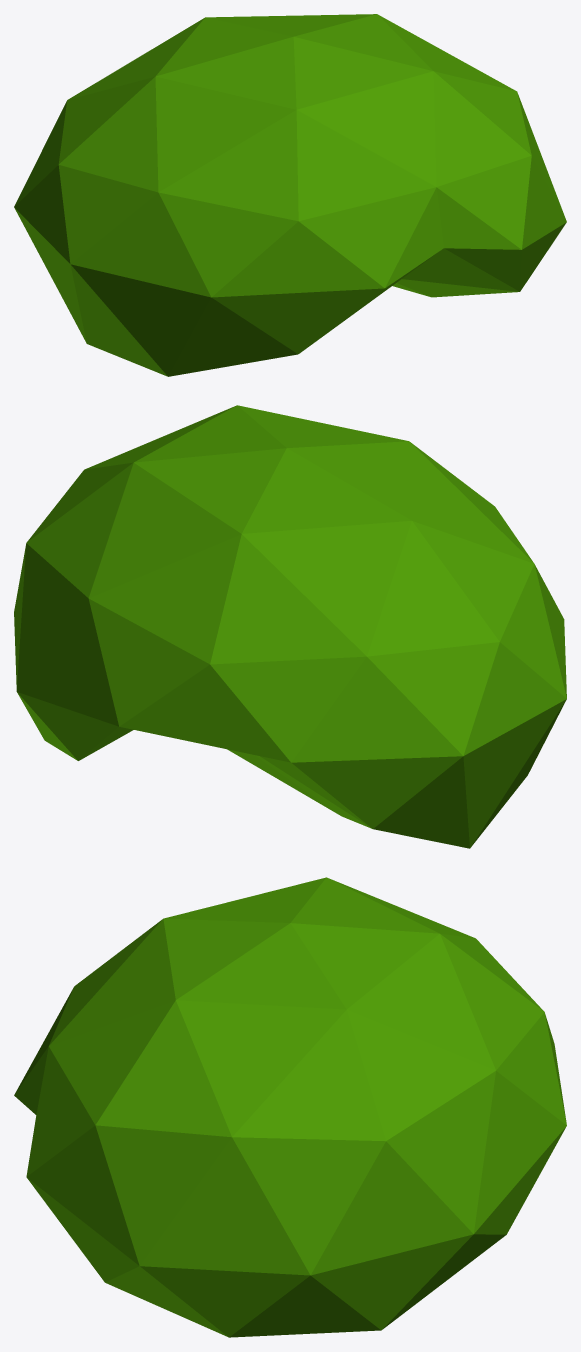
File: Vegetation_Modular_New_Tree_Leaf_Bunch_01.FBX
3 views of the same model, one above another, from view 1: azimuth 30°, elevation 25°; view 2: azimuth 150°, elevation 25°; view 3: azimuth 270°, elevation 25° (orthographic). The views are drawn at different scales.
Visible parts, largest first — view 1: Vegetation_Modular_New_Tree_Leaf_Bunch_01; view 2: Vegetation_Modular_New_Tree_Leaf_Bunch_01; view 3: Vegetation_Modular_New_Tree_Leaf_Bunch_01.
Boxes of the visible parts, <box> form: Vegetation_Modular_New_Tree_Leaf_Bunch_01: <box>14,14,566,376</box>; Vegetation_Modular_New_Tree_Leaf_Bunch_01: <box>14,405,566,848</box>; Vegetation_Modular_New_Tree_Leaf_Bunch_01: <box>14,877,566,1337</box>.
Bounding box in the file's own units: 2495 × 1465 × 2221.
